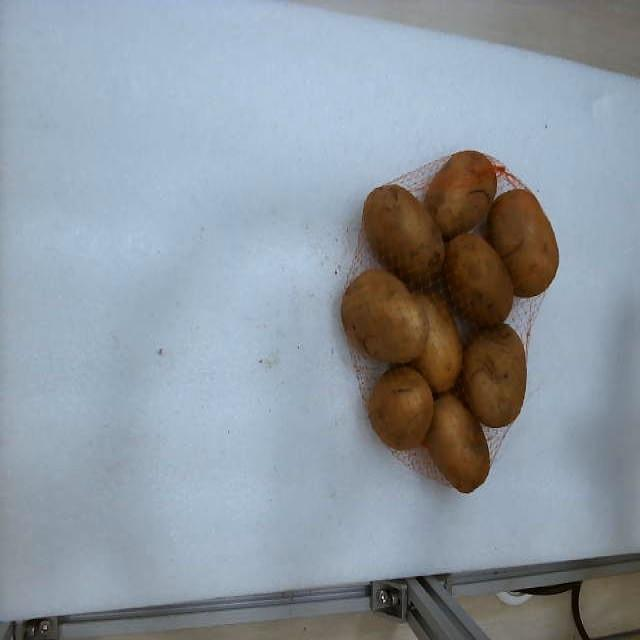potato: (341, 270, 428, 362), (362, 185, 445, 281), (489, 192, 559, 297), (461, 323, 526, 428), (444, 233, 514, 327), (425, 393, 488, 492), (426, 152, 498, 238), (368, 367, 434, 449), (414, 293, 462, 392)
